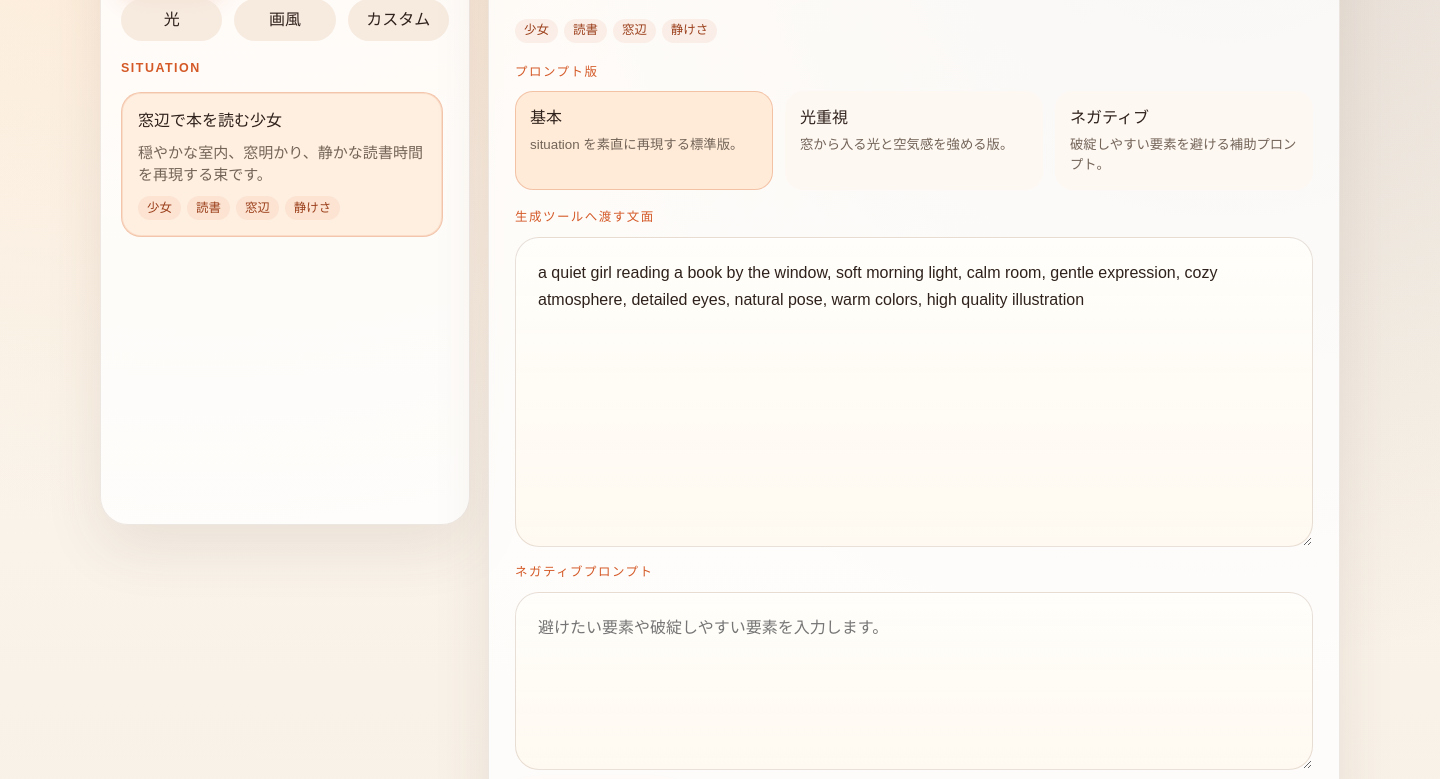
Scenario: App › restores the selected image prompt variant after editing
(page scrolled)
Replace the text in the text box labelled "生成ツールへ渡す文面" with "テスト用プロンプト". click: point(914, 392)
box: [515, 237, 1313, 547]
(page scrolled)
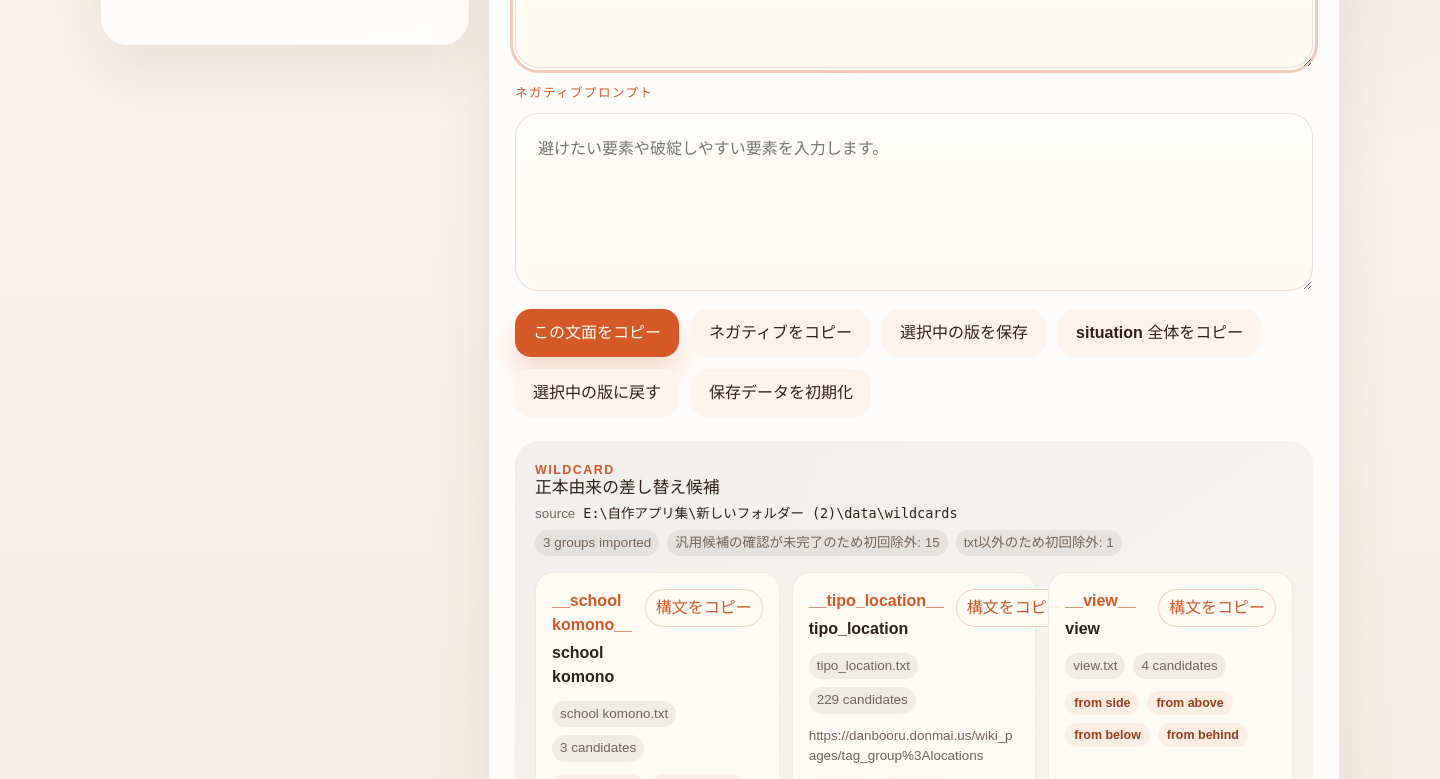
Click the button "選択中の版に戻す". click: point(597, 393)
box: [515, 369, 679, 417]
(page scrolled)
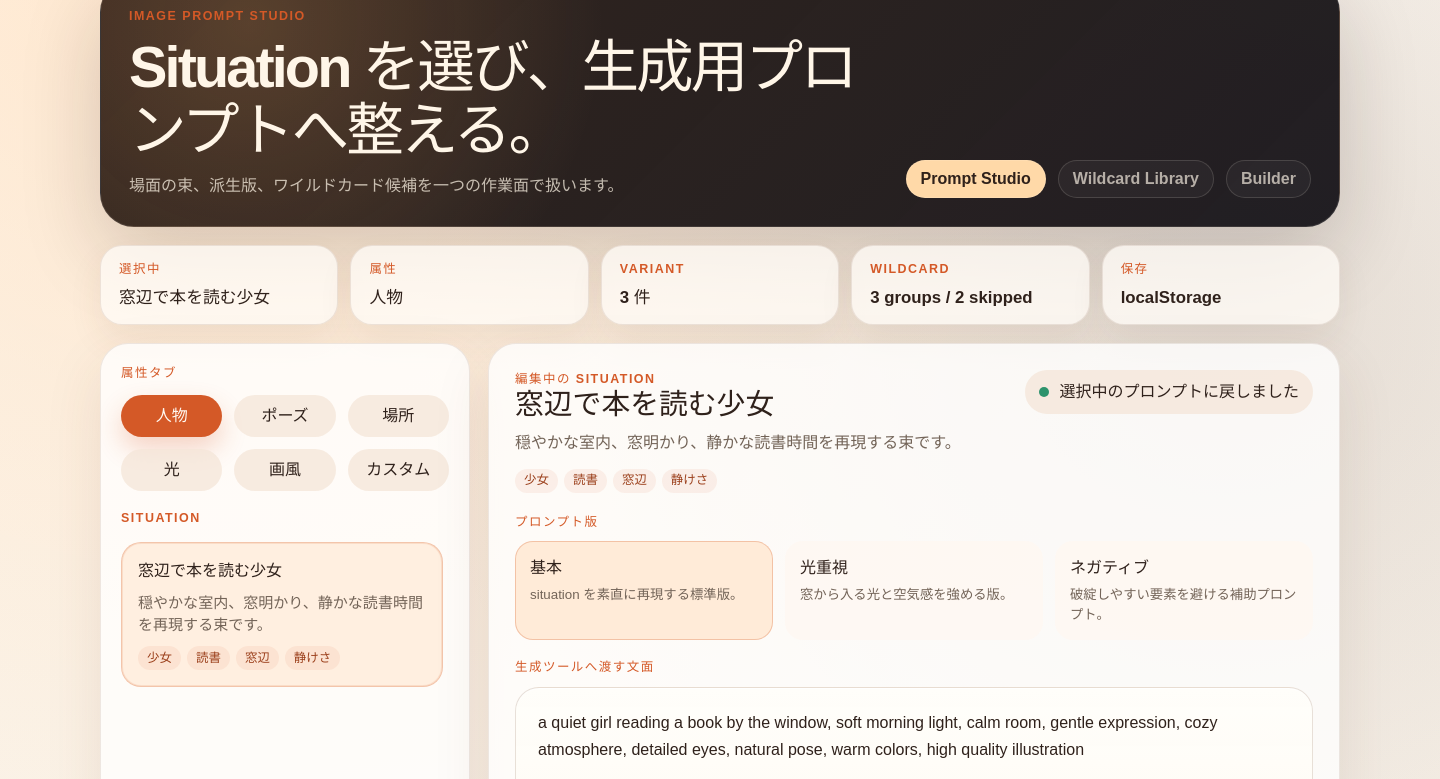
Check: the text "選択中のプロンプトに戻しました" is shown, box [1026, 370, 1313, 414]
